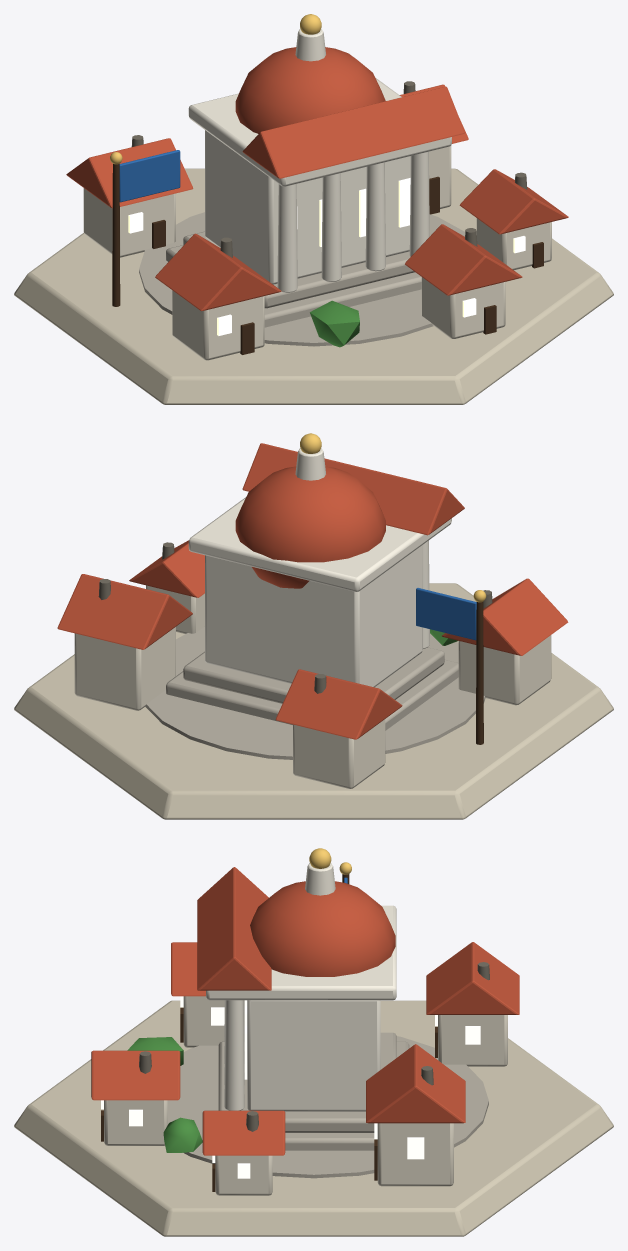
File: district-web.glb
3 views of the same model, one above another, from view 1: azimuth 30°, elevation 25°; view 2: azimuth 150°, elevation 25°; view 3: azimuth 270°, elevation 25° (orthographic).
Visible parts, largest first — view 1: district-web; view 2: district-web; view 3: district-web.
Boxes of the visible parts, x1=… form: district-web: x1=14, y1=14, x2=613, y2=404; district-web: x1=14, y1=433, x2=613, y2=819; district-web: x1=14, y1=848, x2=613, y2=1236.
Bounding box in the file's own units: 1.64 × 0.965 × 1.89.
